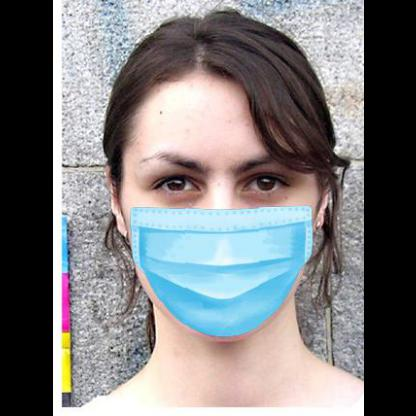Surgical Mask: (99, 58, 338, 344)
